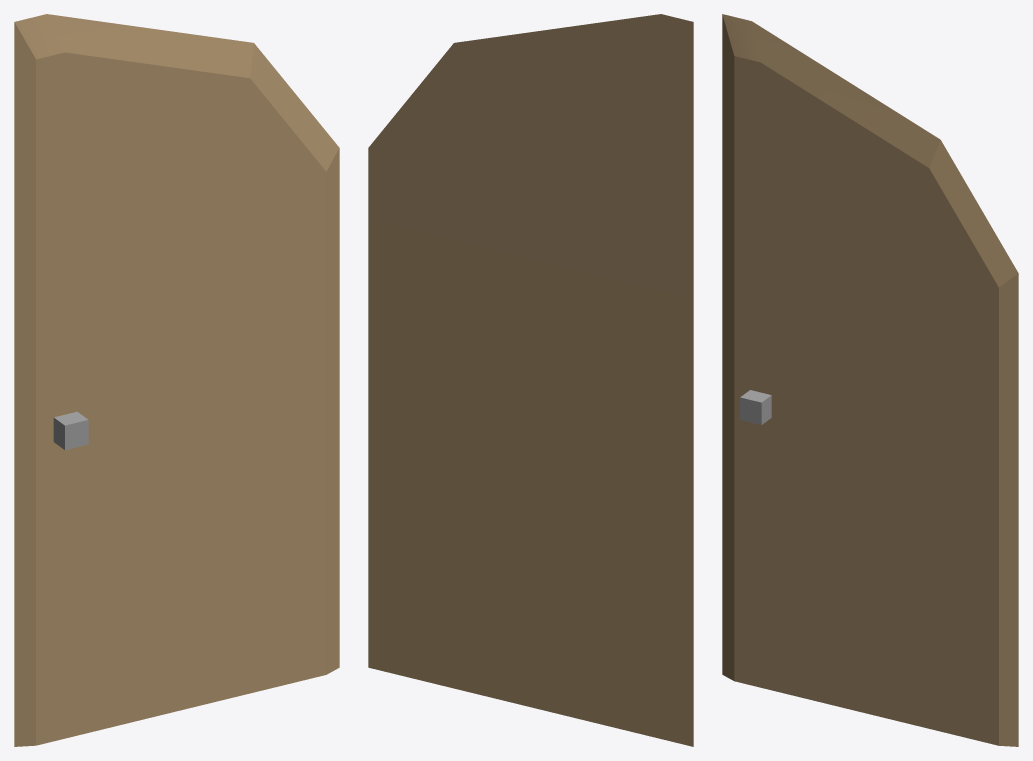
The model's file is Door 1.fbx.
3 views of the same model, side by side, from view 1: azimuth 30°, elevation 25°; view 2: azimuth 150°, elevation 25°; view 3: azimuth 330°, elevation 25° (orthographic). The views are drawn at different scales.
Visible parts, largest first — view 1: Door1; view 2: Door1; view 3: Door1.
Part boxes in pixels (bbox=[...]): Door1: bbox=[14, 14, 339, 746]; Door1: bbox=[368, 14, 693, 746]; Door1: bbox=[722, 14, 1018, 746].
Size of the model in its own units: 1.38 by 2.93 by 0.1137.
